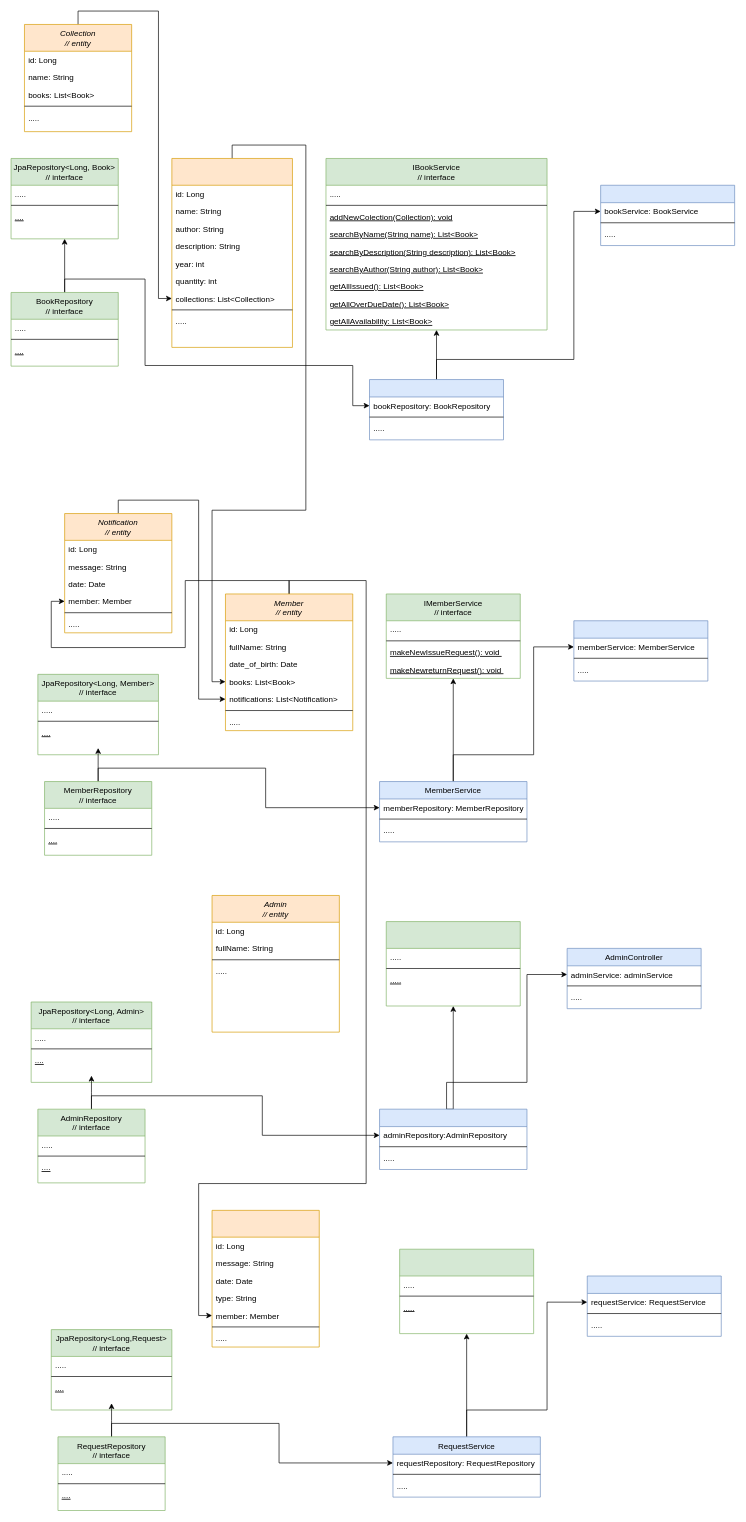
Some shapes in this 746 by 1522 pixel diagram are drawn without their labels. Each missing label, with the box of its shape:
AdminService: (379, 1109, 527, 1169)
Book // entity: (171, 158, 292, 347)
BookController: (600, 185, 735, 246)
BookService: (369, 379, 504, 440)
IAdminService // interface: (386, 921, 520, 1006)
IRequestService // interface: (399, 1249, 534, 1334)
MemberController: (573, 620, 708, 681)
Request // entity: (211, 1210, 319, 1347)
RequestController: (587, 1275, 721, 1336)
